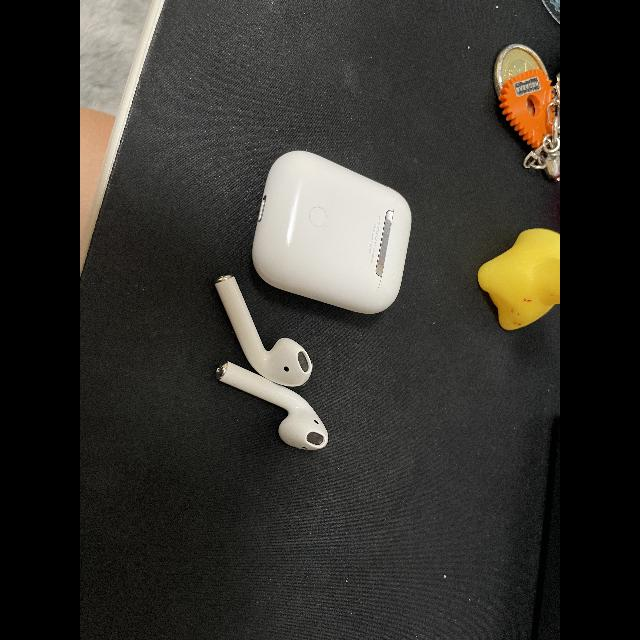airpod2: (201, 138, 419, 462)
